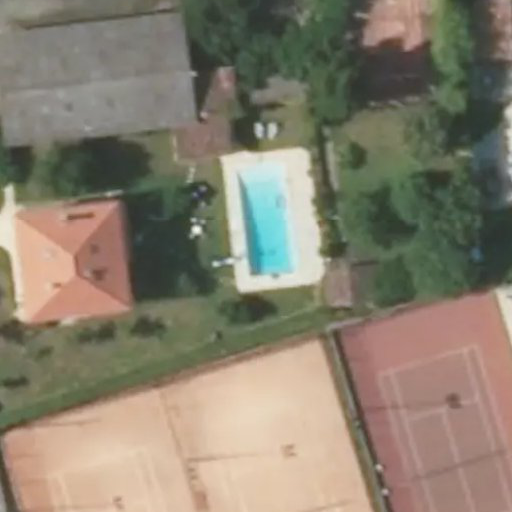pool: (221, 195, 290, 288)
